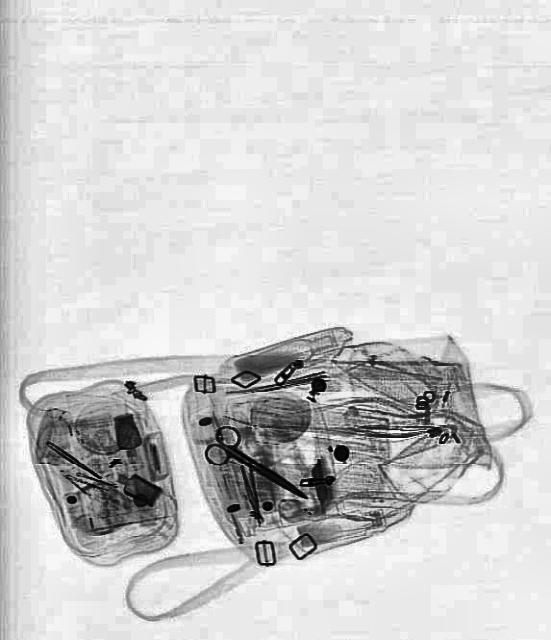Scissors: (201, 418, 317, 516)
